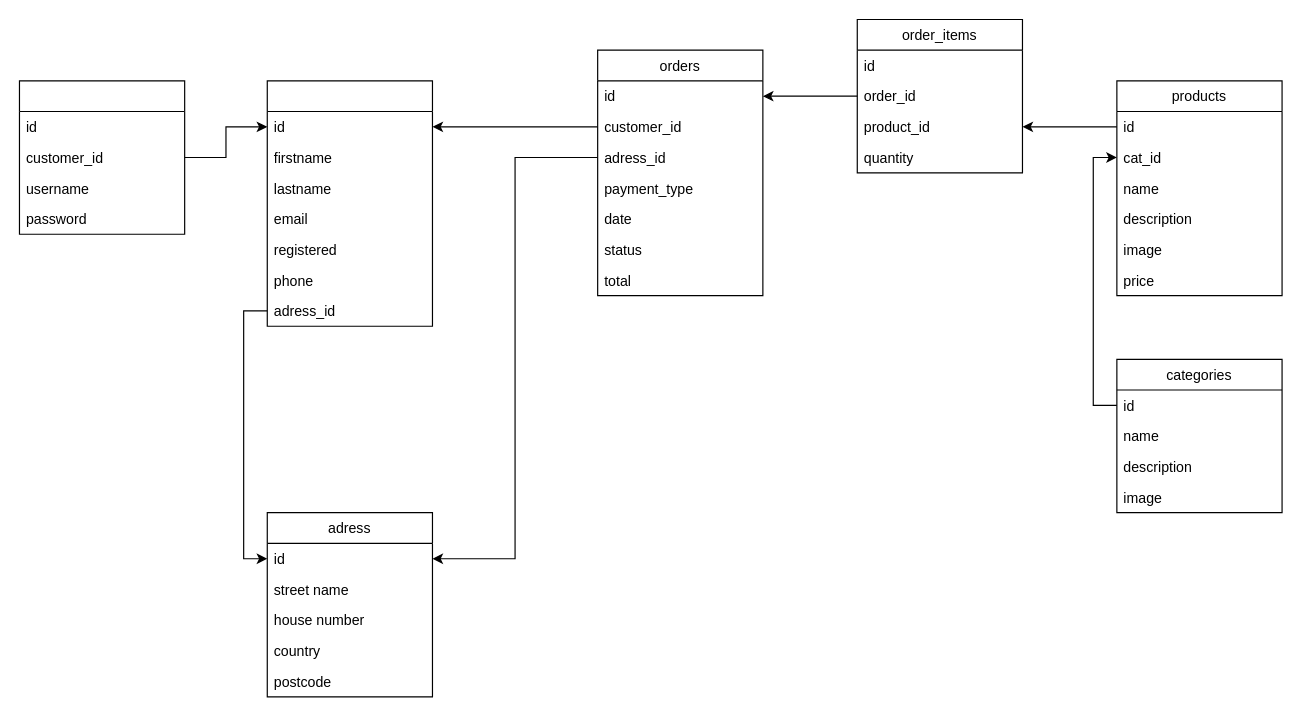
Image size: 1302x716. Some labels were removed from this diagram. The shapes that lost their labels are listed below. From the top down, each one's box as (x1, y1, x2, y2) in pixels, then its label:
(18, 80, 185, 234): logins
(266, 80, 432, 326): customers
